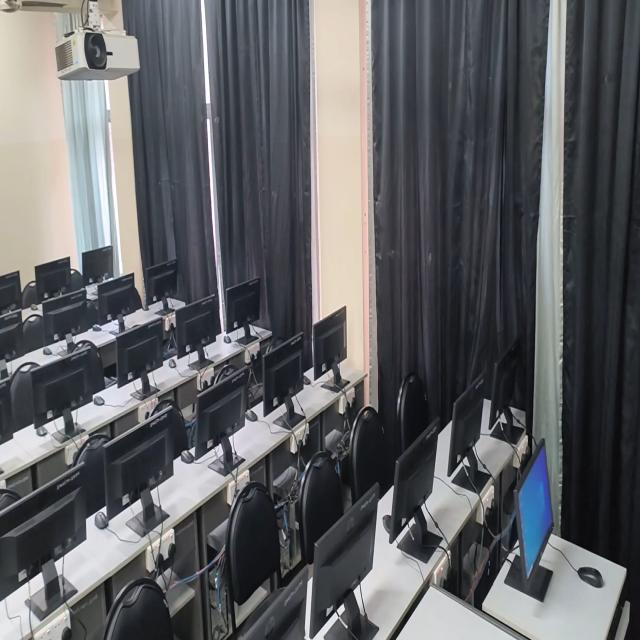Chair: (228, 482, 274, 613), (106, 572, 175, 640), (298, 448, 339, 538), (348, 407, 386, 486), (389, 368, 430, 435), (84, 424, 106, 503), (12, 362, 33, 432), (24, 308, 42, 352), (23, 269, 36, 310), (70, 265, 84, 290)
Monitor: (0, 466, 83, 629), (311, 479, 383, 640), (108, 406, 174, 532), (388, 417, 438, 565), (449, 372, 486, 508), (34, 345, 93, 425), (488, 334, 530, 442), (195, 374, 246, 458), (263, 333, 304, 425), (117, 315, 163, 392), (314, 306, 348, 392), (271, 570, 307, 640), (177, 294, 215, 360), (224, 278, 264, 332), (46, 292, 86, 341), (96, 276, 135, 325), (147, 262, 178, 306), (37, 260, 70, 301), (82, 242, 112, 285), (1, 311, 23, 356), (0, 272, 19, 307)
Mouse: (576, 556, 606, 597), (92, 505, 108, 531), (182, 447, 194, 468), (245, 405, 257, 426), (222, 333, 235, 349), (41, 344, 54, 358), (167, 354, 177, 371), (93, 396, 105, 408), (36, 422, 46, 436), (94, 321, 102, 335)
Projector: (51, 14, 143, 96)
